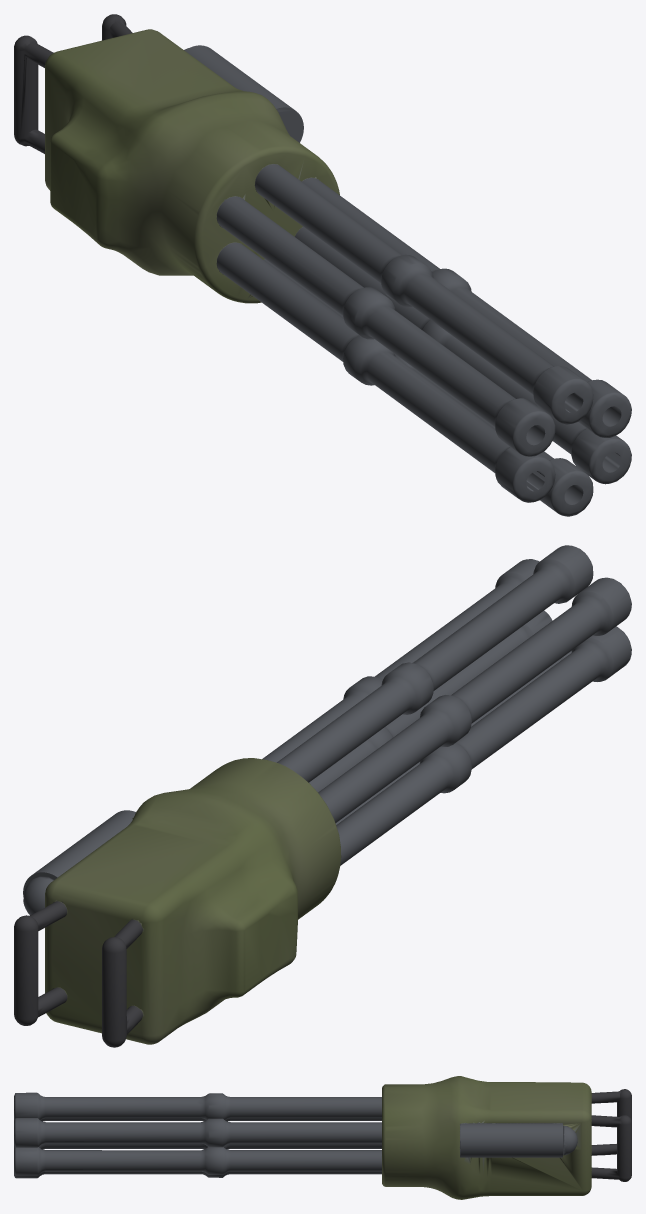
File: minigun_512.glb
3 renders of one model, top to bottom at view 1: azimuth 30°, elevation 25°; view 2: azimuth 150°, elevation 25°; view 3: azimuth 270°, elevation 25°, orthographic. The views are drawn at different scales.
Visible parts, largest first — view 1: body; view 2: body; view 3: body.
Part boxes in pixels (x1,y1,x2,y2): body: [14, 14, 631, 516]; body: [14, 545, 631, 1047]; body: [14, 1076, 631, 1199].
Bounding box in the file's own units: 0.3375 × 0.28 × 1.5.
